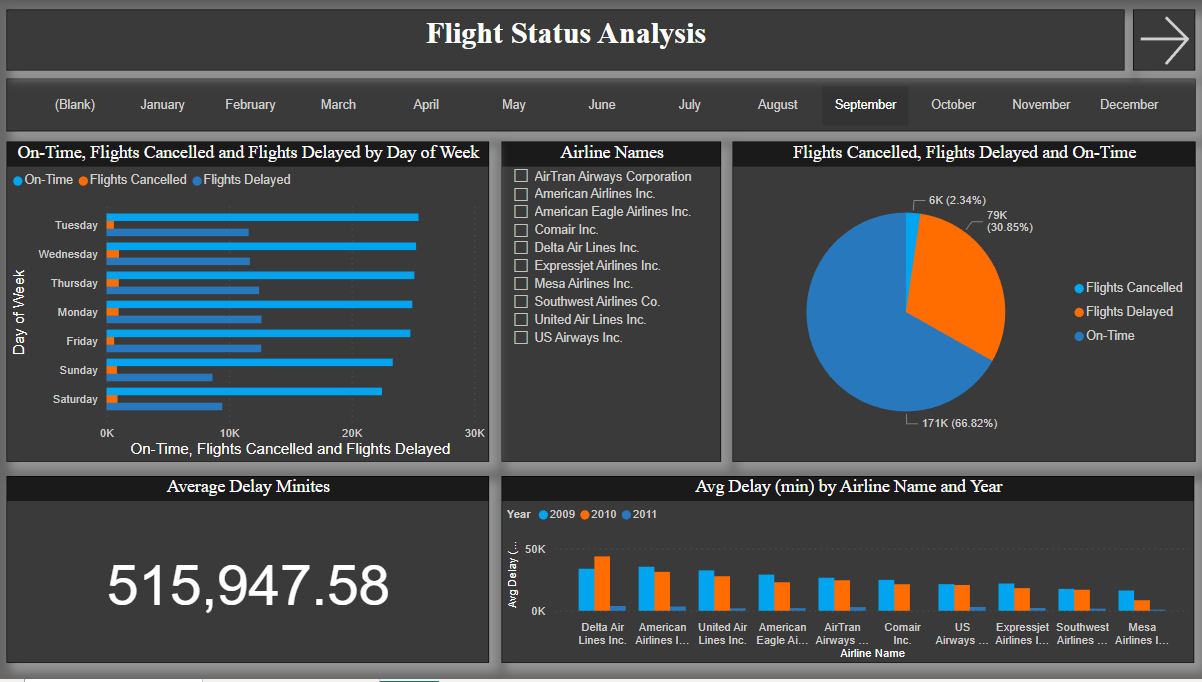

This screenshot's page, from the dashboard's own definition file:
{"tool":"powerbi","page":{"name":"Flight Analysis","canvas":[1280,720],"ordinal":0},"visuals":[{"type":"slicer","fields":{"Values":["Sheet1.Departure Hour.Variation.Date Hierarchy.Month"]},"box":[10.7,84.8,1259.7,56.1],"z":0},{"type":"slicer","title":"Airline Names","fields":{"Values":["Sheet1.Airline Name"]},"box":[536.1,151.6,232.8,339.1],"z":1000},{"type":"clusteredBarChart","fields":{"Y":["Sum(Sheet1.On-Time)","Sum(Sheet1.Flights Cancelled)","Sum(Sheet1.Flights Delayed)"],"Category":["Sheet1.Day of Week"]},"box":[10.7,151.6,511,339.1],"z":2000},{"type":"pieChart","fields":{"Y":["Sum(Sheet1.Flights Cancelled)","Sum(Sheet1.Flights Delayed)","Sum(Sheet1.On-Time)"]},"box":[779.7,151.6,490.7,339.1],"z":3000},{"type":"card","title":"Average Delay Minites","fields":{"Values":["Sum(Sheet1.Avg Delay (min))"]},"box":[10.7,505.1,511,198.2],"z":4000},{"type":"clusteredColumnChart","fields":{"Category":["Sheet1.Airline Name"],"Series":["Sheet1.Year"],"Y":["Sum(Sheet1.Avg Delay (min))"]},"box":[536.1,505.1,734.3,198.2],"z":5000},{"type":"textbox","box":[10.7,10.7,1184.5,64.5],"z":6000},{"type":"actionButton","box":[1204.8,10.7,65.7,64.5],"z":7000}]}

Visuals, with their boxes in screenshot pixels (x1, y1, x2, y2), scaled from the page's 1280x720 canvas onto the 1202x682 screenshot:
slicer - Sheet1.Departure Hour.Variation.Date Hierarchy.Month: rect(10, 80, 1193, 133)
"Airline Names" slicer: rect(503, 144, 722, 465)
clusteredBarChart - Sum(Sheet1.On-Time) x Sum(Sheet1.Flights Cancelled): rect(10, 144, 490, 465)
pieChart - Sum(Sheet1.Flights Cancelled) x Sum(Sheet1.Flights Delayed): rect(732, 144, 1193, 465)
"Average Delay Minites" card: rect(10, 478, 490, 666)
clusteredColumnChart - Sheet1.Airline Name x Sheet1.Year: rect(503, 478, 1193, 666)
textbox: rect(10, 10, 1122, 71)
actionButton: rect(1131, 10, 1193, 71)
